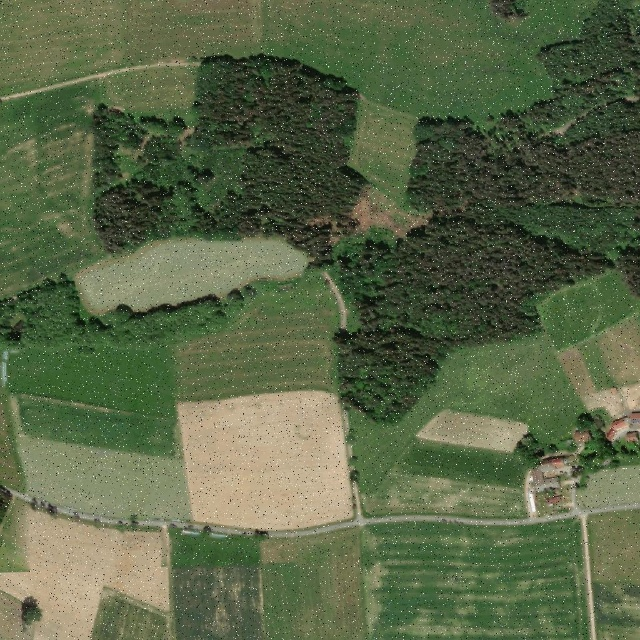vegetation: (337, 0, 640, 428), (88, 54, 361, 270), (0, 271, 240, 354)
